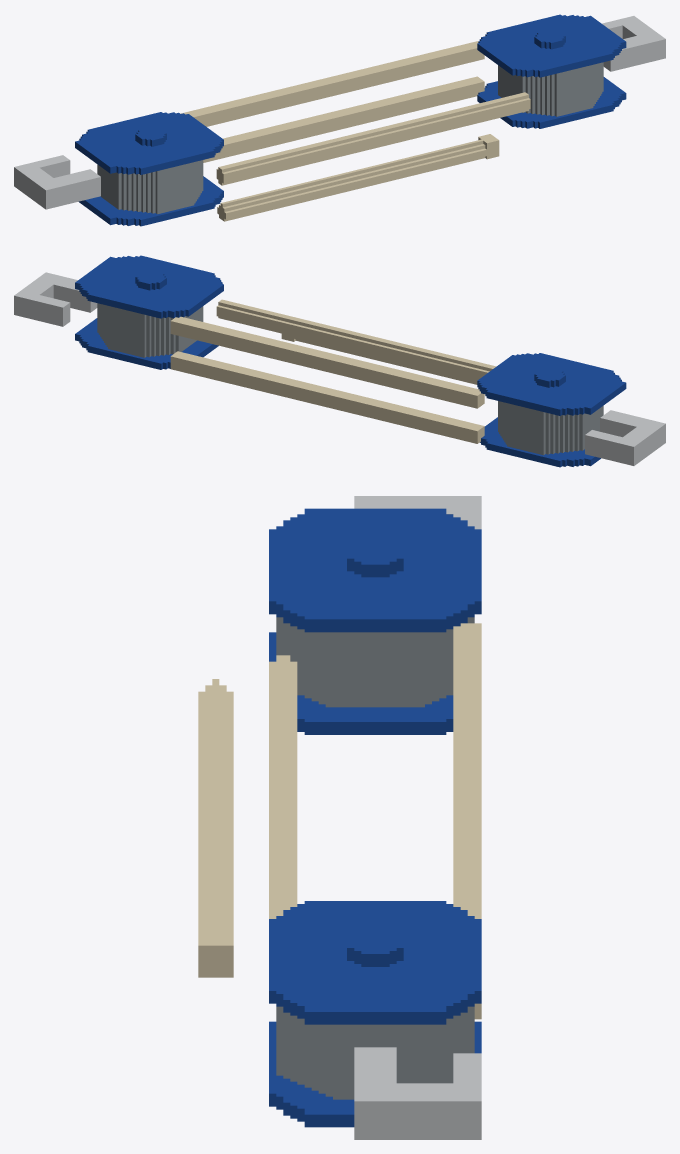
Rendered from block_and_tackle.glb.
The picture shows the model from 3 angles, top to bottom: view 1: azimuth 30°, elevation 25°; view 2: azimuth 150°, elevation 25°; view 3: azimuth 270°, elevation 25°; orthographic projection. The views are drawn at different scales.
Visible parts, largest first — view 1: block_and_tackle:compound; view 2: block_and_tackle:compound; view 3: block_and_tackle:compound.
Part boxes in pixels (bbox=[...]): block_and_tackle:compound: bbox=[14, 14, 665, 226]; block_and_tackle:compound: bbox=[14, 255, 665, 467]; block_and_tackle:compound: bbox=[198, 496, 481, 1139].
Size of the model in its own units: 0.404 by 0.04 by 0.08.
